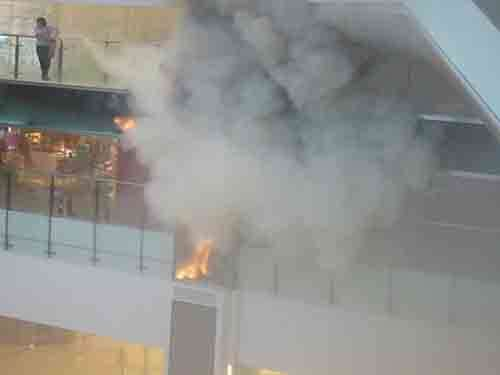fire: (161, 237, 226, 290)
smoke: (125, 5, 433, 219)
